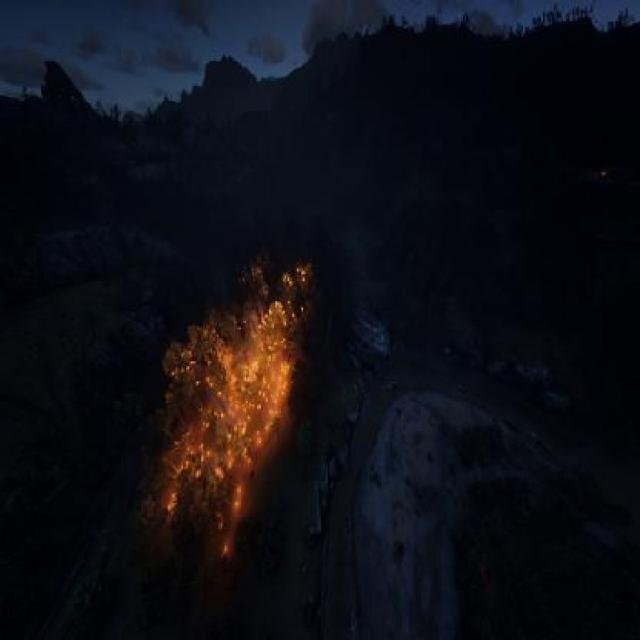Fire: (139, 240, 331, 564)
